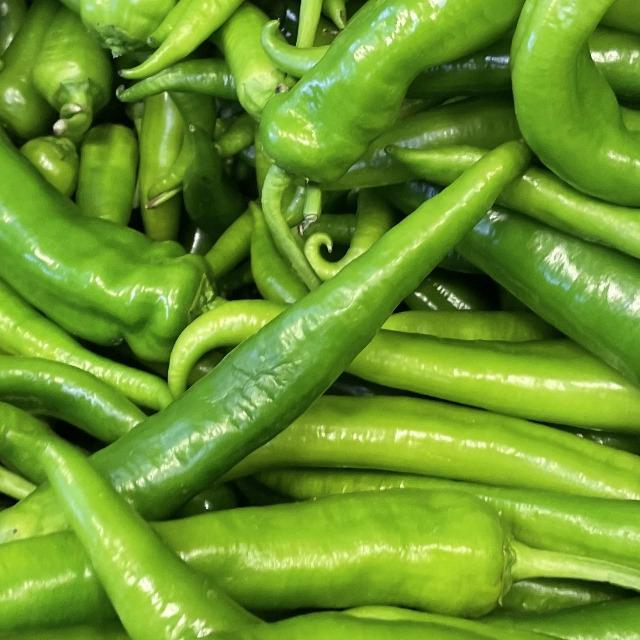chili_pepper: (252, 0, 640, 225), (442, 190, 640, 500)
